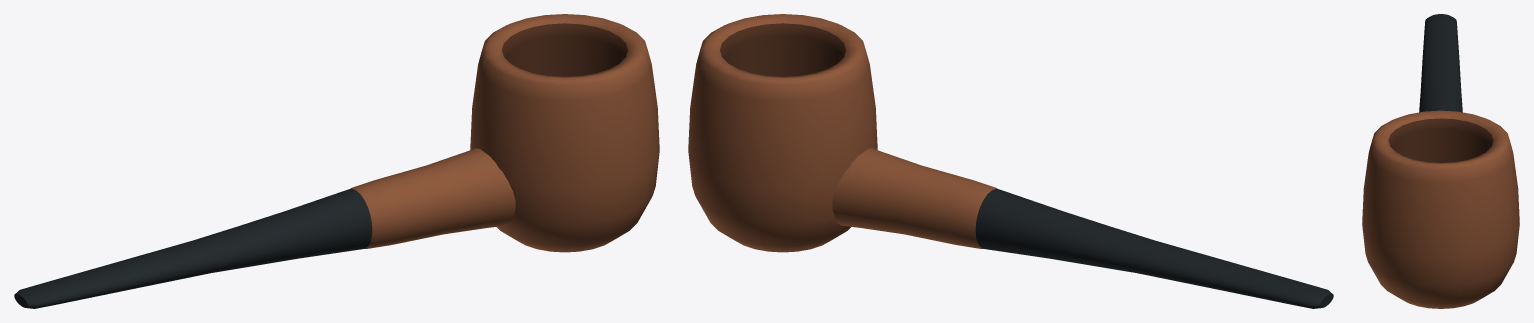
Rendered from A-NEW-20261027-SMOKING-PIPE-001_LOD2_R1.glb.
The picture shows the model from 3 angles, left to right: view 1: azimuth 30°, elevation 25°; view 2: azimuth 150°, elevation 25°; view 3: azimuth 270°, elevation 25°; orthographic projection. The views are drawn at different scales.
Visible parts, largest first — view 1: open hollow pipe bowl, long tapered flattened mouthpiece, fixed lateral rounded shank; view 2: open hollow pipe bowl, long tapered flattened mouthpiece, fixed lateral rounded shank; view 3: open hollow pipe bowl, long tapered flattened mouthpiece.
Boxes of the visible parts, box(x1,y1,x2,y2) form: open hollow pipe bowl: box(470, 14, 659, 252); long tapered flattened mouthpiece: box(14, 189, 372, 308); fixed lateral rounded shank: box(349, 148, 515, 248); open hollow pipe bowl: box(688, 14, 877, 252); long tapered flattened mouthpiece: box(975, 189, 1333, 308); fixed lateral rounded shank: box(832, 148, 998, 248); open hollow pipe bowl: box(1362, 110, 1519, 308); long tapered flattened mouthpiece: box(1419, 14, 1462, 112).
Bounding box in the file's own units: 0.183 × 0.0535 × 0.048.
